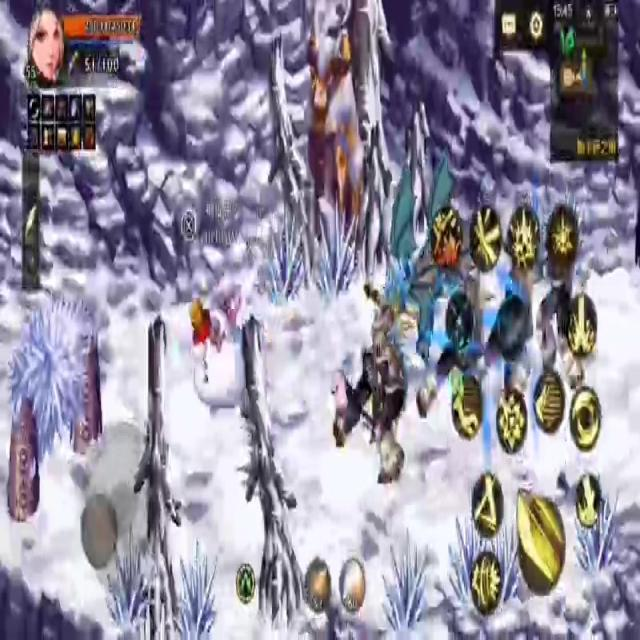player: (185, 287, 257, 421)
